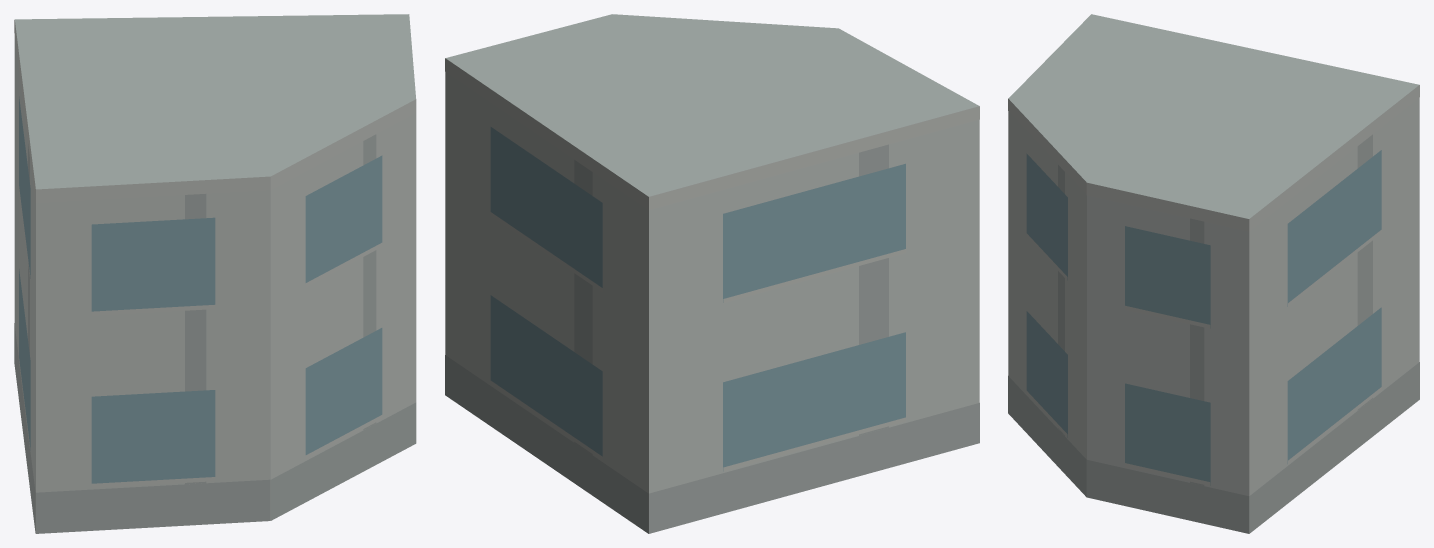
Rendered from residential-ccfb7494-5c8f-4441-9b66-1cb5b7627ab2.glb.
3 views of the same model, side by side, from view 1: azimuth 30°, elevation 25°; view 2: azimuth 150°, elevation 25°; view 3: azimuth 270°, elevation 25° (orthographic). The views are drawn at different scales.
Visible parts, largest first — view 1: residential-ccfb7494-5c8f-4441-9b66-1cb5b7627ab2.tmp; view 2: residential-ccfb7494-5c8f-4441-9b66-1cb5b7627ab2.tmp; view 3: residential-ccfb7494-5c8f-4441-9b66-1cb5b7627ab2.tmp.
Part boxes in pixels (<box>): residential-ccfb7494-5c8f-4441-9b66-1cb5b7627ab2.tmp: <box>14,14,416,533</box>; residential-ccfb7494-5c8f-4441-9b66-1cb5b7627ab2.tmp: <box>445,14,979,533</box>; residential-ccfb7494-5c8f-4441-9b66-1cb5b7627ab2.tmp: <box>1008,14,1419,533</box>.
Bounding box in the file's own units: 8.53 × 6.1 × 7.24.
